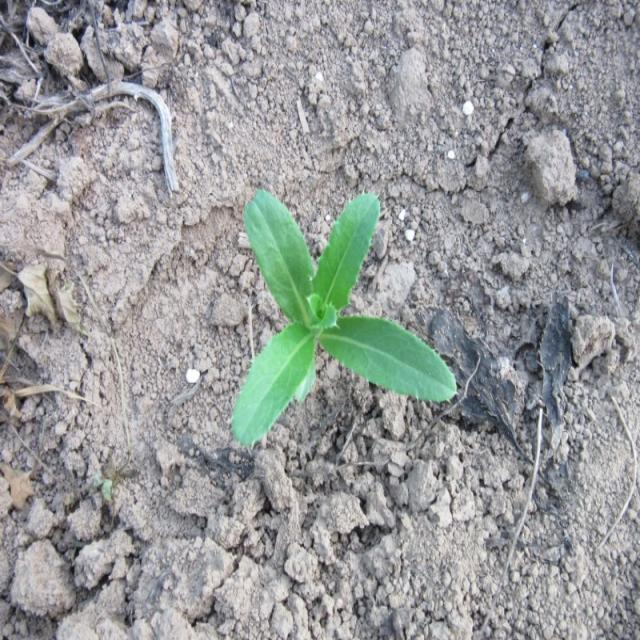cs: (231, 185, 461, 445)
